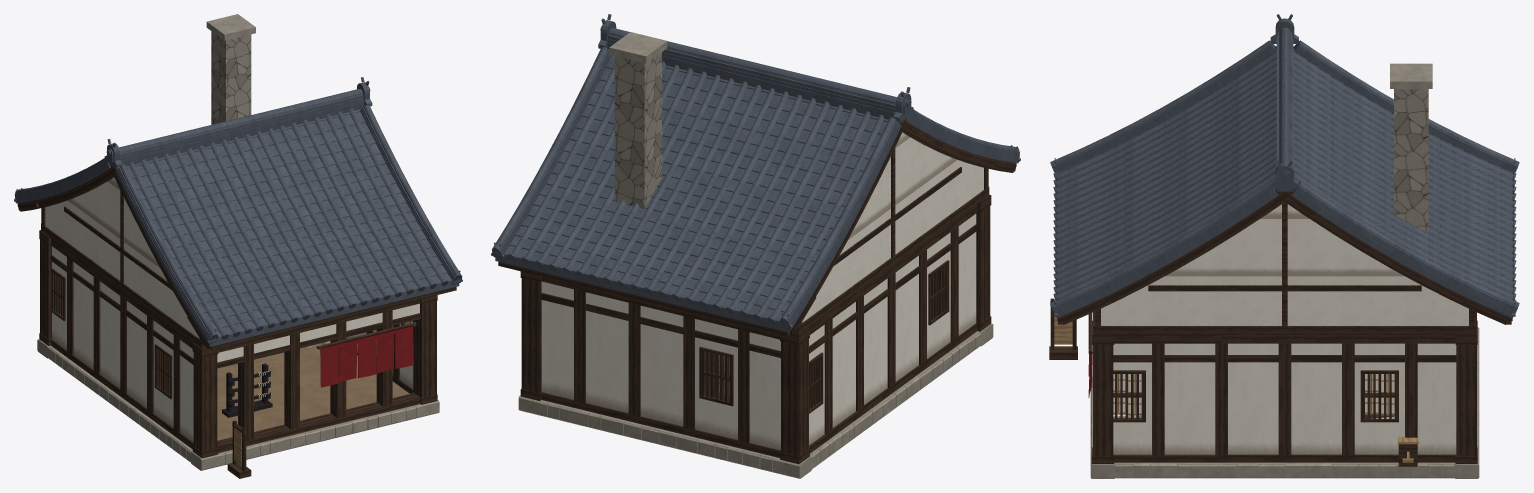
Rendered from HO_Bldg_Blacksmith.fbx.
3 renders of one model, left to right at view 1: azimuth 30°, elevation 25°; view 2: azimuth 150°, elevation 25°; view 3: azimuth 270°, elevation 25°, orthographic. The views are drawn at different scales.
Visible parts, largest first — view 1: HO_Bldg_Blacksmith_RoofTiles, HO_Bldg_Blacksmith_Structure_GF__Timber_Dark, HO_Bldg_Blacksmith_Structure_GF__Plaster_White, HO_Bldg_Blacksmith_RoofFrame__Plaster_White, HO_Bldg_Blacksmith_Interior_GF__Earth_Packed, HO_Bldg_Blacksmith_Structure, HO_Bldg_Blacksmith_RoofFrame__Timber_Dark, HO_Bldg_Blacksmith_Front__Cloth_Crimson, HO_Bldg_Blacksmith_Interior_GF__Stone_Fitted, HO_Bldg_Blacksmith_Interior_GF__Black_Lacquer, HO_Bldg_Blacksmith_Front__Timber_Dark, HO_Bldg_Blacksmith_Interior_GF__Stone_Granite; view 2: HO_Bldg_Blacksmith_RoofTiles, HO_Bldg_Blacksmith_Structure_GF__Timber_Dark, HO_Bldg_Blacksmith_Structure_GF__Plaster_White, HO_Bldg_Blacksmith_RoofFrame__Plaster_White, HO_Bldg_Blacksmith_Structure, HO_Bldg_Blacksmith_RoofFrame__Timber_Dark, HO_Bldg_Blacksmith_Interior_GF__Stone_Fitted, HO_Bldg_Blacksmith_Interior_GF__Stone_Granite; view 3: HO_Bldg_Blacksmith_RoofTiles, HO_Bldg_Blacksmith_Structure_GF__Plaster_White, HO_Bldg_Blacksmith_Structure_GF__Timber_Dark, HO_Bldg_Blacksmith_RoofFrame__Plaster_White, HO_Bldg_Blacksmith_RoofFrame__Timber_Dark, HO_Bldg_Blacksmith_Structure, HO_Bldg_Blacksmith_Interior_GF__Stone_Fitted, HO_Bldg_Blacksmith_Structure_GF__Shoji_Paper, HO_Bldg_Blacksmith_Interior_GF__Stone_Granite, HO_Bldg_Blacksmith_Front__Timber_Dark, HO_Bldg_Blacksmith_Structure_GF__Timber_Light.
Boxes of the visible parts, bbox=[...] form: HO_Bldg_Blacksmith_RoofTiles: bbox=[14, 77, 462, 346]; HO_Bldg_Blacksmith_Structure_GF__Timber_Dark: bbox=[39, 230, 437, 458]; HO_Bldg_Blacksmith_Structure_GF__Plaster_White: bbox=[52, 246, 419, 442]; HO_Bldg_Blacksmith_RoofFrame__Plaster_White: bbox=[45, 177, 199, 338]; HO_Bldg_Blacksmith_Interior_GF__Earth_Packed: bbox=[217, 343, 414, 453]; HO_Bldg_Blacksmith_Structure: bbox=[37, 339, 439, 470]; HO_Bldg_Blacksmith_RoofFrame__Timber_Dark: bbox=[17, 165, 456, 349]; HO_Bldg_Blacksmith_Front__Cloth_Crimson: bbox=[320, 324, 413, 387]; HO_Bldg_Blacksmith_Interior_GF__Stone_Fitted: bbox=[211, 31, 251, 124]; HO_Bldg_Blacksmith_Interior_GF__Black_Lacquer: bbox=[222, 363, 272, 417]; HO_Bldg_Blacksmith_Front__Timber_Dark: bbox=[227, 322, 416, 478]; HO_Bldg_Blacksmith_Interior_GF__Stone_Granite: bbox=[206, 14, 255, 40]; HO_Bldg_Blacksmith_RoofTiles: bbox=[491, 14, 1020, 332]; HO_Bldg_Blacksmith_Structure_GF__Timber_Dark: bbox=[520, 194, 991, 464]; HO_Bldg_Blacksmith_Structure_GF__Plaster_White: bbox=[541, 214, 976, 450]; HO_Bldg_Blacksmith_RoofFrame__Plaster_White: bbox=[802, 132, 983, 322]; HO_Bldg_Blacksmith_Structure: bbox=[518, 323, 993, 478]; HO_Bldg_Blacksmith_RoofFrame__Timber_Dark: bbox=[498, 118, 1016, 336]; HO_Bldg_Blacksmith_Interior_GF__Stone_Fitted: bbox=[614, 52, 661, 208]; HO_Bldg_Blacksmith_Interior_GF__Stone_Granite: bbox=[609, 32, 667, 63]; HO_Bldg_Blacksmith_RoofTiles: bbox=[1050, 14, 1519, 318]; HO_Bldg_Blacksmith_Structure_GF__Plaster_White: bbox=[1113, 343, 1456, 454]; HO_Bldg_Blacksmith_Structure_GF__Timber_Dark: bbox=[1092, 312, 1477, 463]; HO_Bldg_Blacksmith_RoofFrame__Plaster_White: bbox=[1101, 204, 1468, 325]; HO_Bldg_Blacksmith_RoofFrame__Timber_Dark: bbox=[1057, 46, 1512, 334]; HO_Bldg_Blacksmith_Structure: bbox=[1090, 327, 1479, 478]; HO_Bldg_Blacksmith_Interior_GF__Stone_Fitted: bbox=[1394, 89, 1428, 233]; HO_Bldg_Blacksmith_Structure_GF__Shoji_Paper: bbox=[1113, 374, 1394, 413]; HO_Bldg_Blacksmith_Interior_GF__Stone_Granite: bbox=[1390, 63, 1432, 88]; HO_Bldg_Blacksmith_Front__Timber_Dark: bbox=[1049, 298, 1092, 359]; HO_Bldg_Blacksmith_Structure_GF__Timber_Light: bbox=[1113, 374, 1394, 415].
Bounding box in the file's own units: 23.13 × 25.42 × 29.74.
